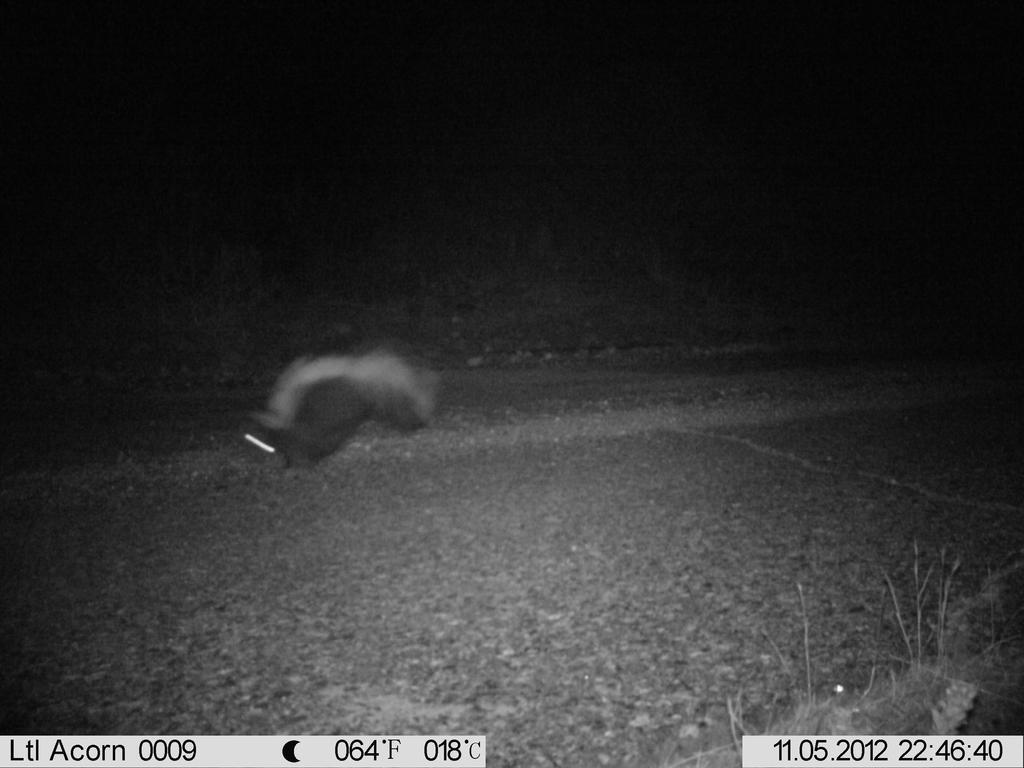skunk: (237, 336, 451, 479)
